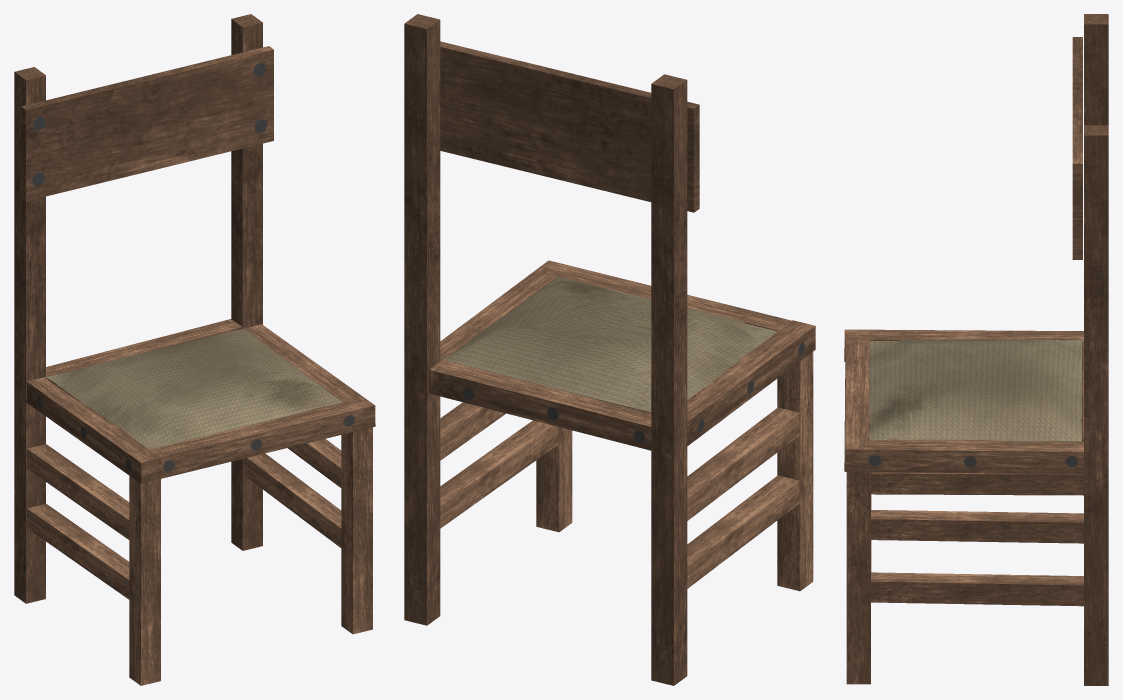
Rendered from wooden_chair (1).glb.
3 views of the same model, side by side, from view 1: azimuth 30°, elevation 25°; view 2: azimuth 150°, elevation 25°; view 3: azimuth 270°, elevation 25° (orthographic). The views are drawn at different scales.
Parts seen in each view (by area): view 1: Object_3; view 2: Object_3; view 3: Object_3.
Part boxes in pixels (bbox=[...]): Object_3: bbox=[14, 14, 375, 685]; Object_3: bbox=[404, 14, 815, 685]; Object_3: bbox=[844, 14, 1108, 685].
Size of the model in its own units: 5.28 by 10.66 by 4.64.
1 material, 1 textured.
